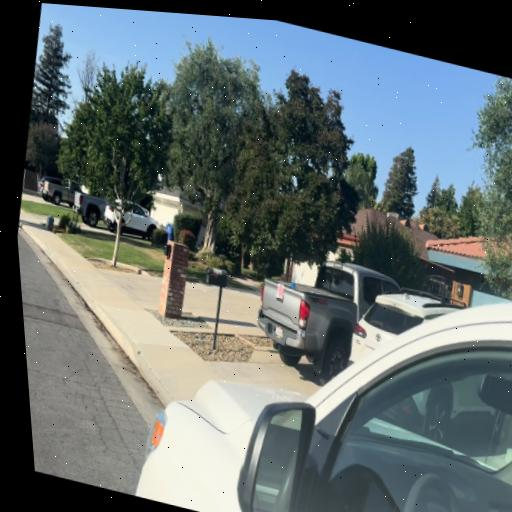bullseye: (277, 283, 284, 299)
